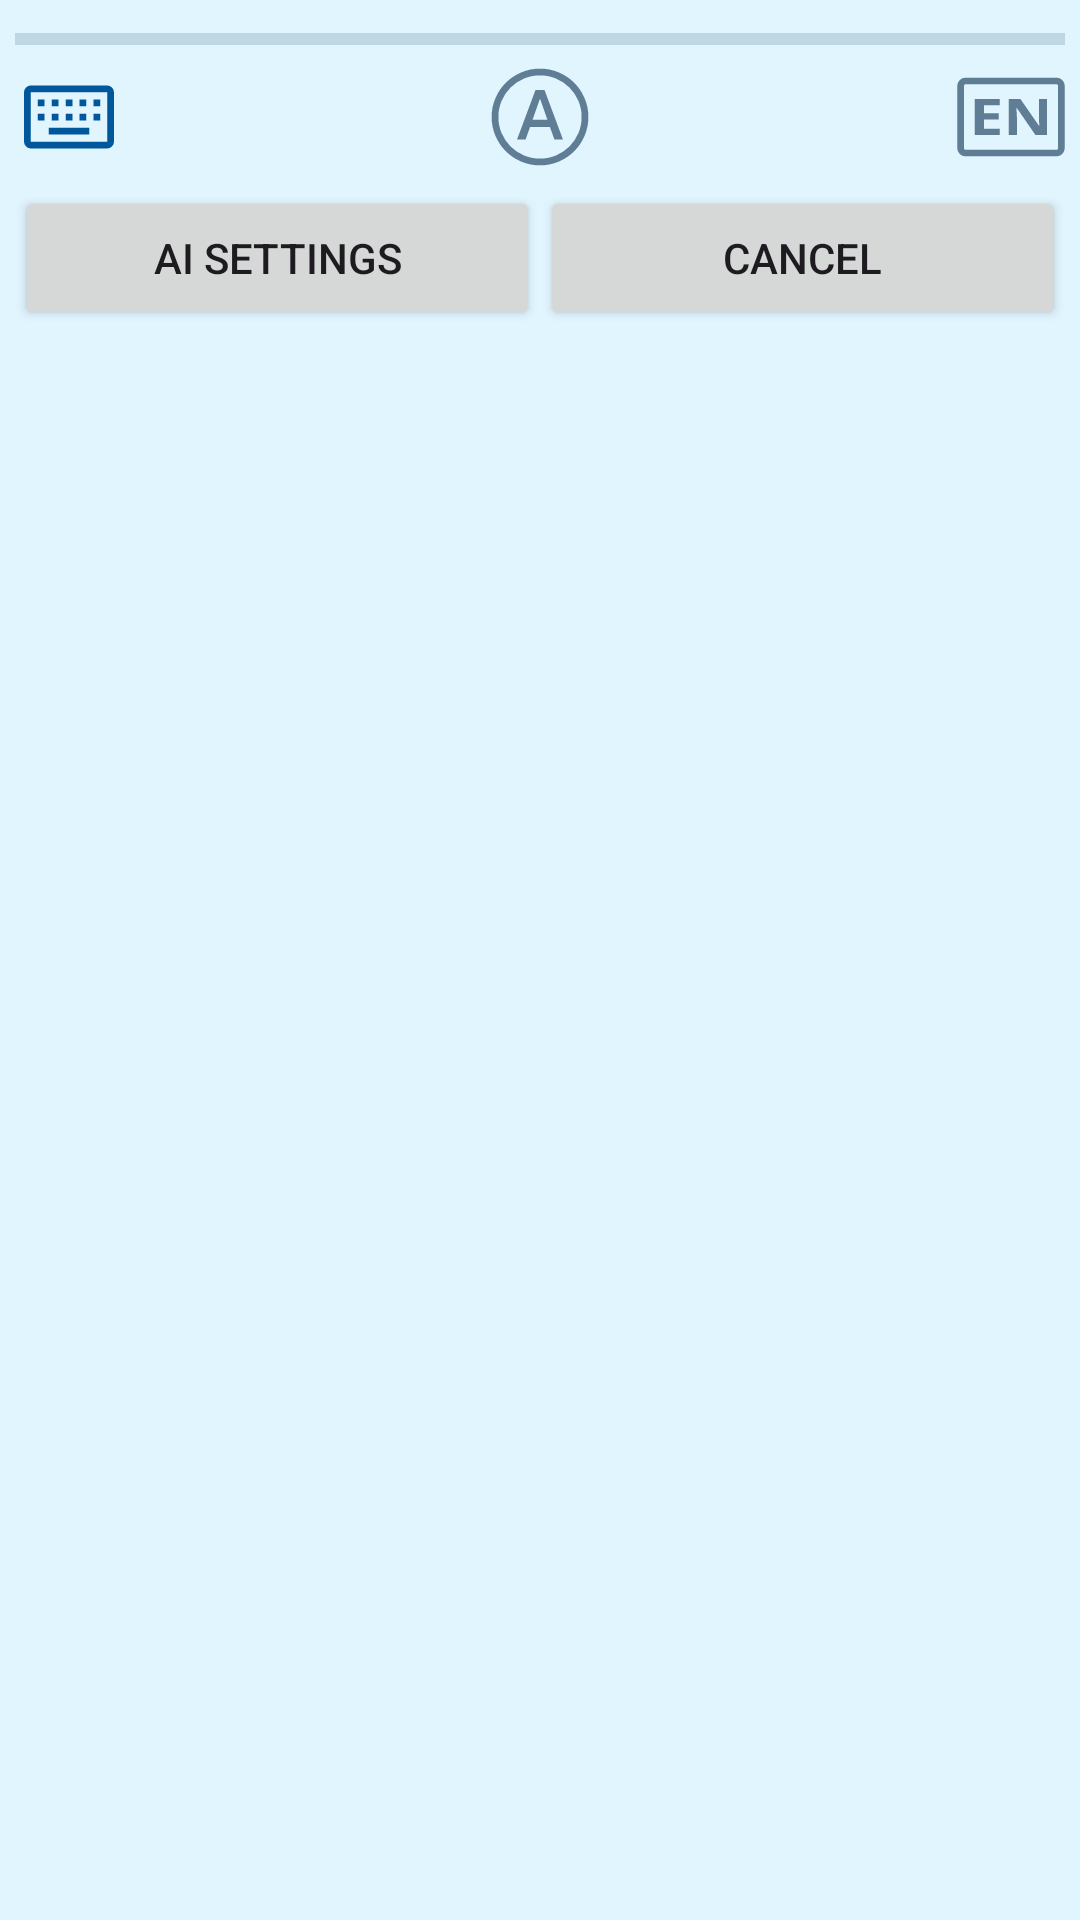

Point at icon controls on the screen. Image size 1080×1920, points as (x=x, y=y).
automatic mode: (x=540, y=117)
Translate to English: (x=1011, y=117)
